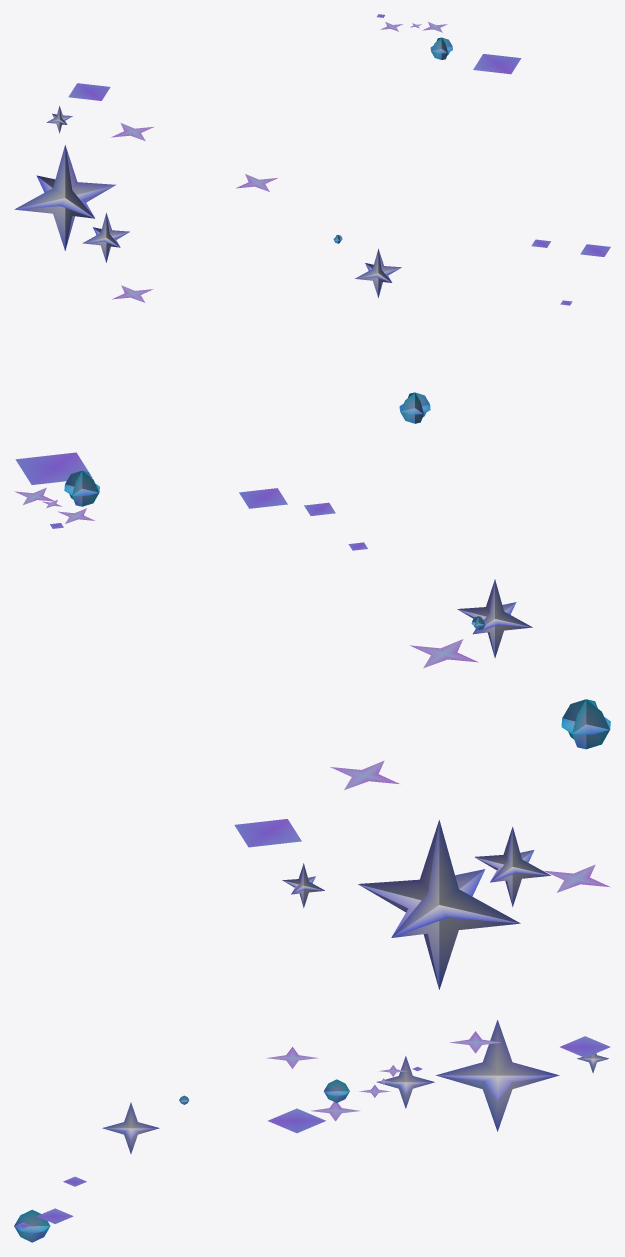
File: space-stars-star-cluster_v22.glb
The picture shows the model from 3 angles, top to bottom: view 1: azimuth 30°, elevation 25°; view 2: azimuth 150°, elevation 25°; view 3: azimuth 270°, elevation 25°; orthographic projection. The views are drawn at different scales.
Parts seen in each view (by area): view 1: Star Cluster_v22; view 2: Star Cluster_v22; view 3: Star Cluster_v22.
Part boxes in pixels (left/top/right/bottom): Star Cluster_v22: left=14, top=14, right=610, bottom=423; Star Cluster_v22: left=14, top=452, right=610, bottom=989; Star Cluster_v22: left=14, top=1020, right=610, bottom=1242.
Size of the model in its own units: 0.4199 by 0.2324 by 0.5.
